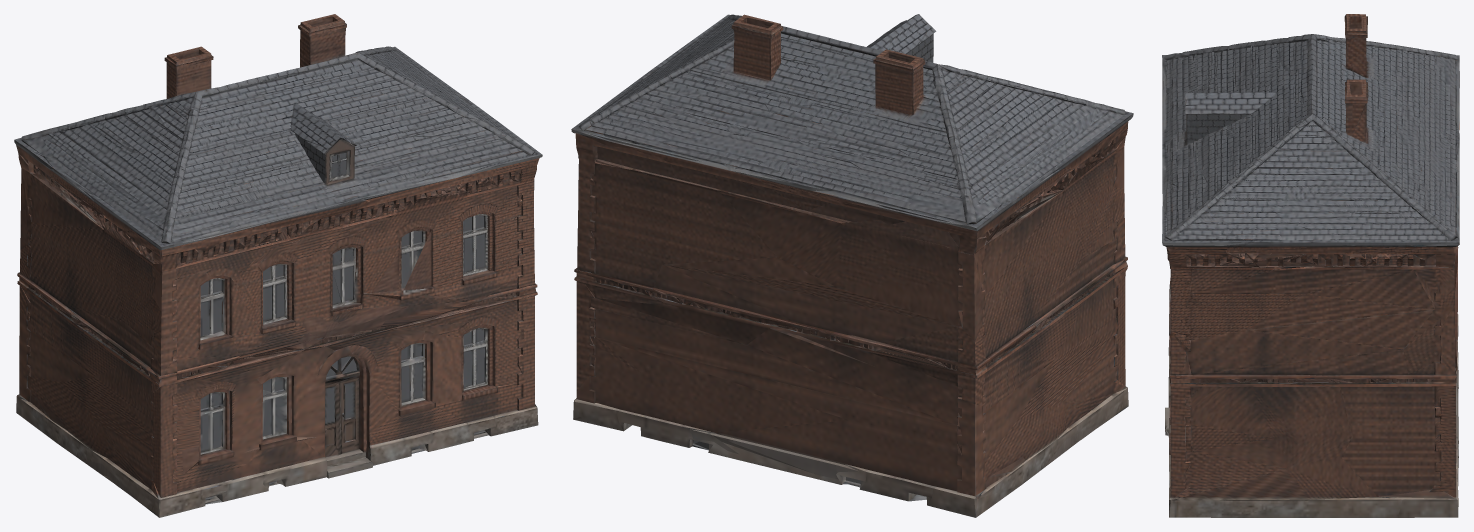
File: mid_familok_house.glb
3 views of the same model, side by side, from view 1: azimuth 30°, elevation 25°; view 2: azimuth 150°, elevation 25°; view 3: azimuth 270°, elevation 25° (orthographic). The views are drawn at different scales.
Size of the model in its own units: 1.9 by 1.74 by 1.27.
1 material, 1 textured.
